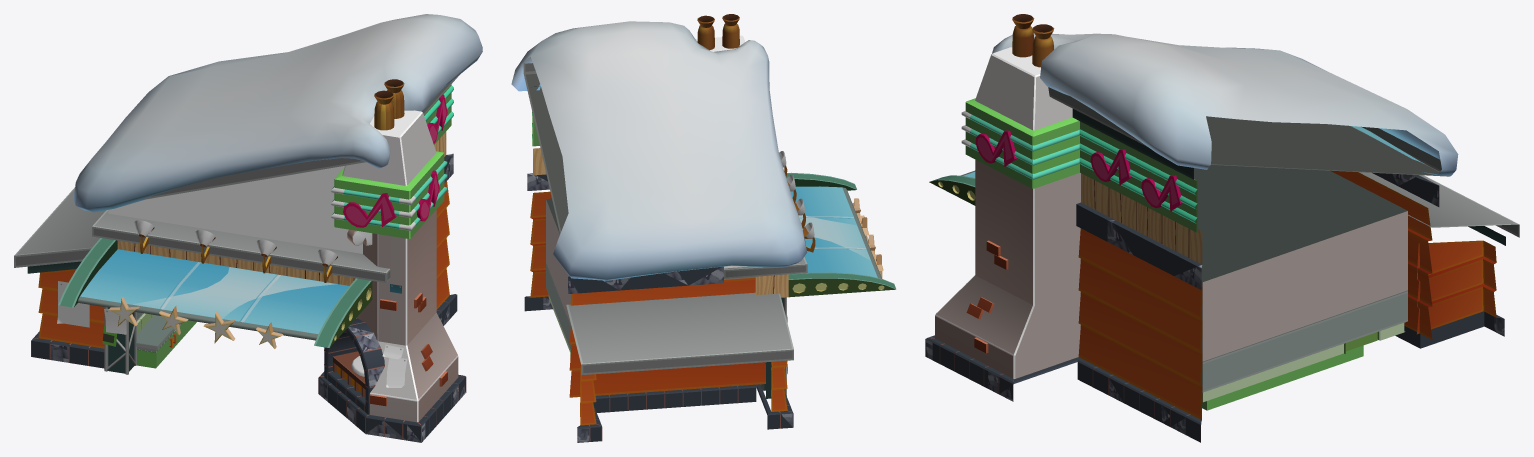
Rendered from RestaurantBuilding.fbx.
3 renders of one model, left to right at view 1: azimuth 30°, elevation 25°; view 2: azimuth 150°, elevation 25°; view 3: azimuth 270°, elevation 25°, orthographic. The views are drawn at different scales.
Visible parts, largest first — view 1: RestaurantBuilding; view 2: RestaurantBuilding; view 3: RestaurantBuilding.
Part boxes in pixels (bbox=[...]): RestaurantBuilding: bbox=[14, 14, 482, 442]; RestaurantBuilding: bbox=[511, 14, 896, 442]; RestaurantBuilding: bbox=[925, 14, 1519, 442].
Size of the model in its own units: 959 by 686 by 1059.
